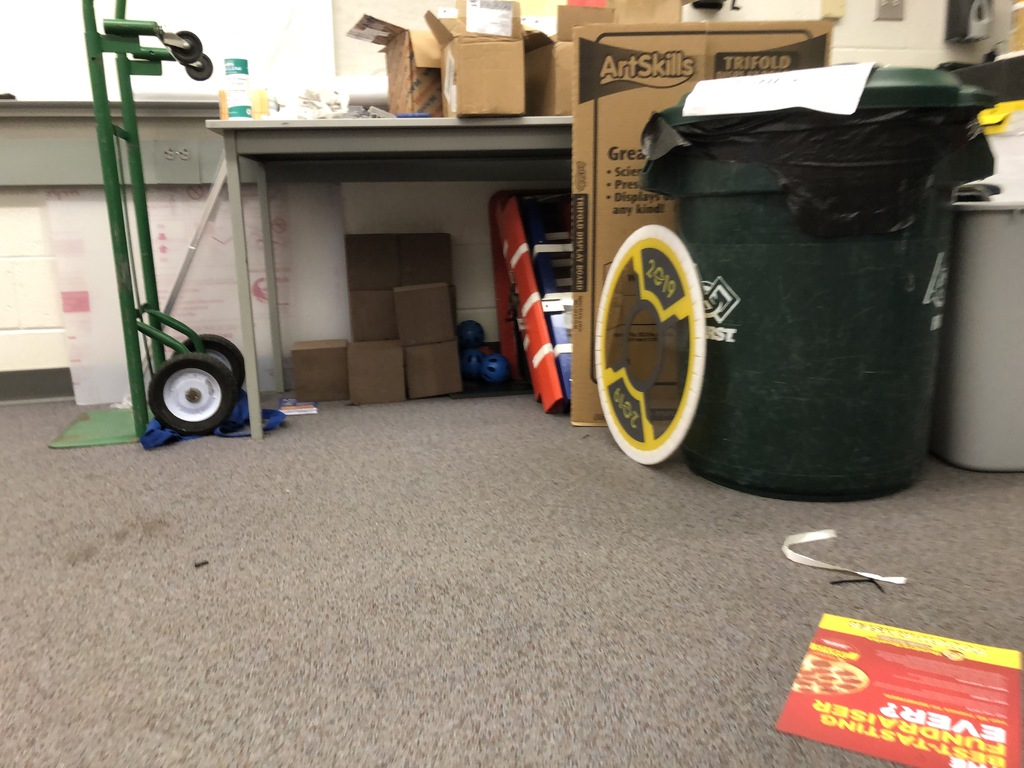hatch_panel: (591, 221, 705, 468)
